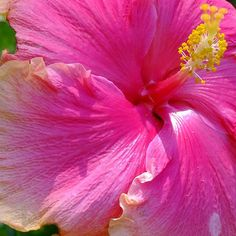Hibiscus: (1, 1, 236, 236)
